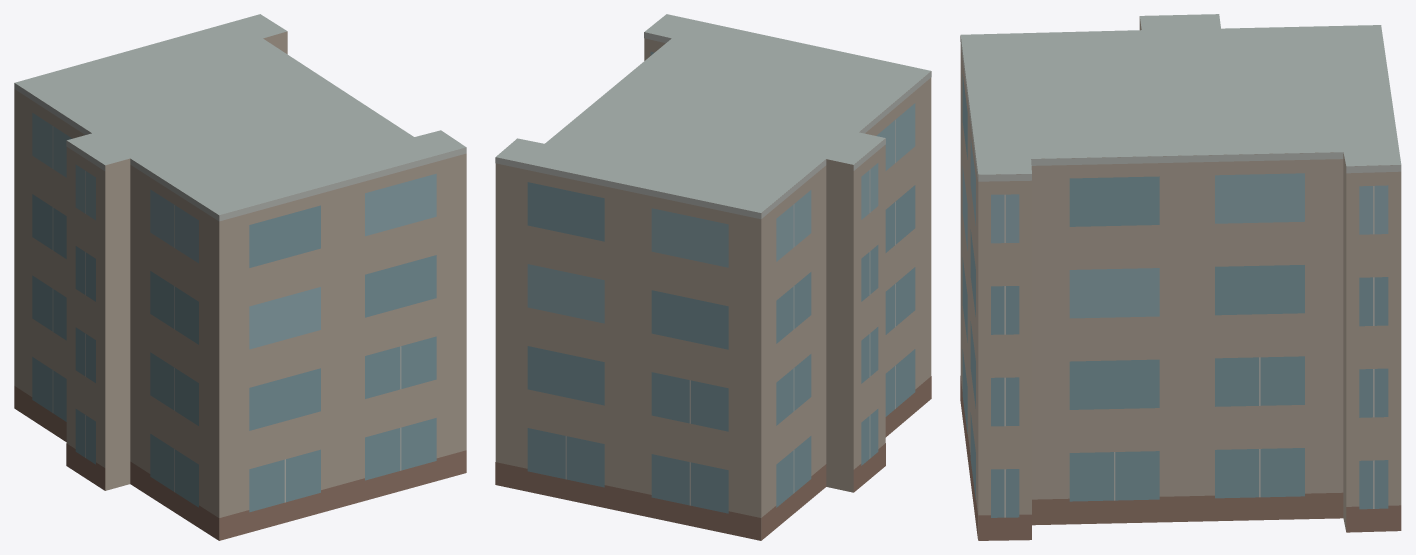
The model's file is survey-upis-33023833.glb.
3 renders of one model, left to right at view 1: azimuth 30°, elevation 25°; view 2: azimuth 150°, elevation 25°; view 3: azimuth 270°, elevation 25°, orthographic. The views are drawn at different scales.
Visible parts, largest first — view 1: survey-upis-33023833.tmp; view 2: survey-upis-33023833.tmp; view 3: survey-upis-33023833.tmp.
Boxes of the visible parts, box(x1,y1,x2,y2) form: survey-upis-33023833.tmp: box(14, 14, 466, 540); survey-upis-33023833.tmp: box(495, 14, 931, 540); survey-upis-33023833.tmp: box(960, 14, 1401, 540).
Size of the model in its own units: 12.15 by 12.9 by 14.09.
